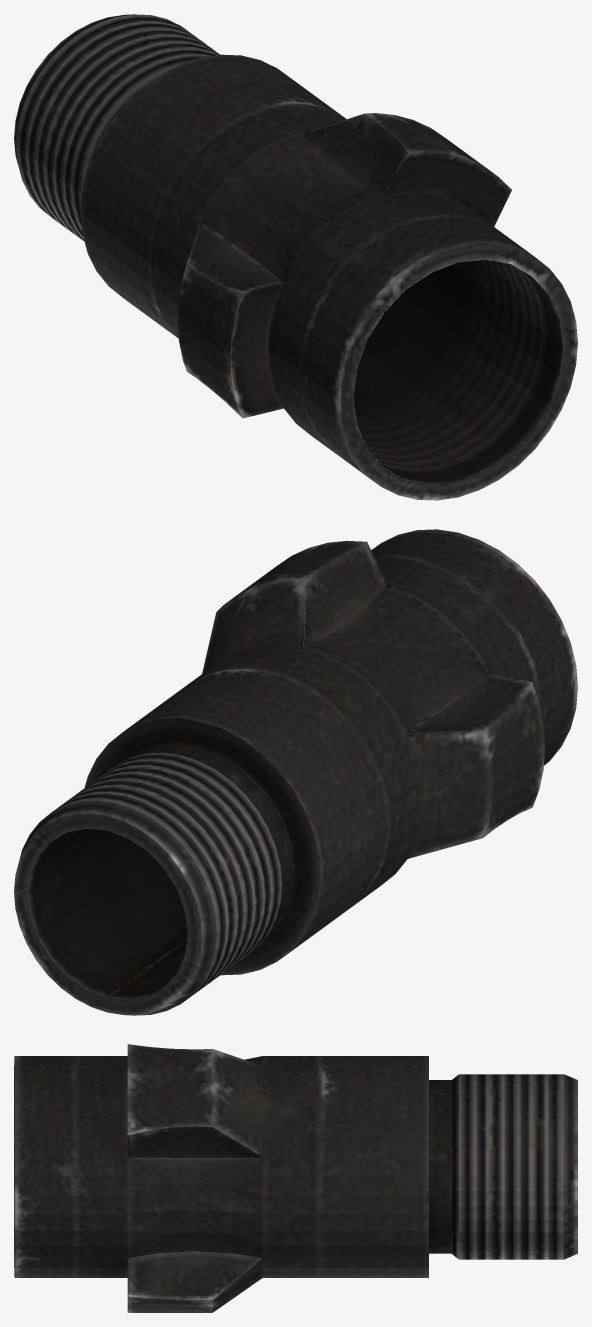
3 renders of one model, top to bottom at view 1: azimuth 30°, elevation 25°; view 2: azimuth 150°, elevation 25°; view 3: azimuth 270°, elevation 25°, orthographic. The views are drawn at different scales.
Parts seen in each view (by area): view 1: TW_5c0000c00db834001a6697fc_PZ_Import; view 2: TW_5c0000c00db834001a6697fc_PZ_Import; view 3: TW_5c0000c00db834001a6697fc_PZ_Import.
Part boxes in pixels (bbox=[...]): TW_5c0000c00db834001a6697fc_PZ_Import: bbox=[14, 14, 577, 500]; TW_5c0000c00db834001a6697fc_PZ_Import: bbox=[14, 529, 577, 1015]; TW_5c0000c00db834001a6697fc_PZ_Import: bbox=[14, 1044, 577, 1312].
Bounding box in the file's own units: 0.0106 × 0.0227 × 0.0117.
1 material, 1 textured.
